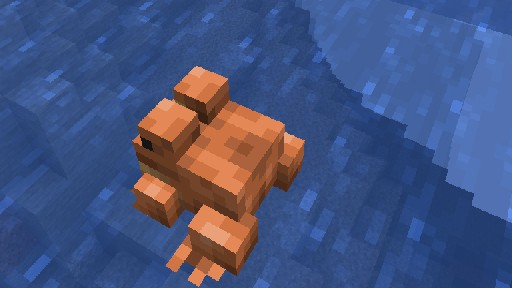frog: (129, 65, 305, 286)
